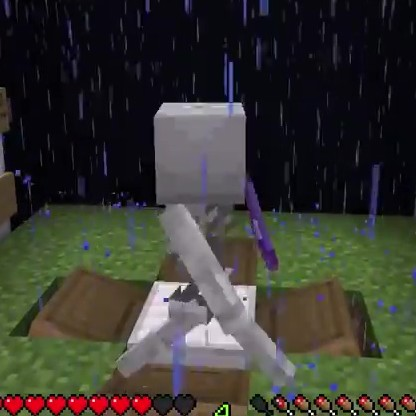skeleton: (143, 100, 274, 378)
